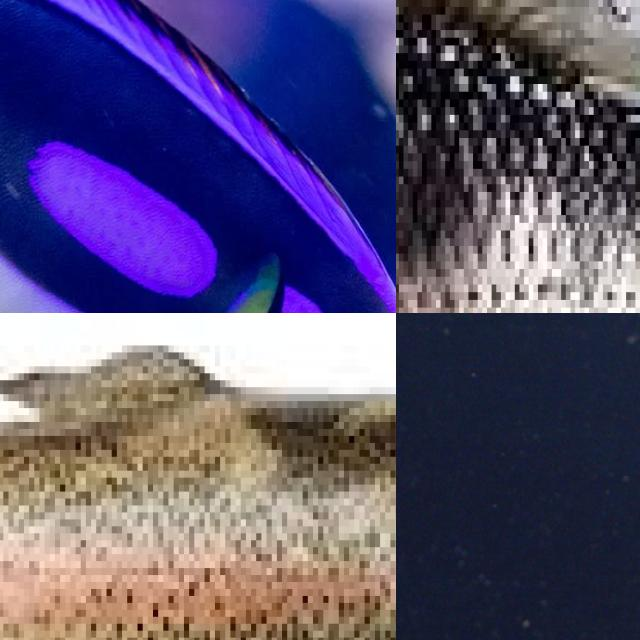fish: (0, 0, 396, 313), (0, 331, 396, 640), (396, 0, 640, 313)
